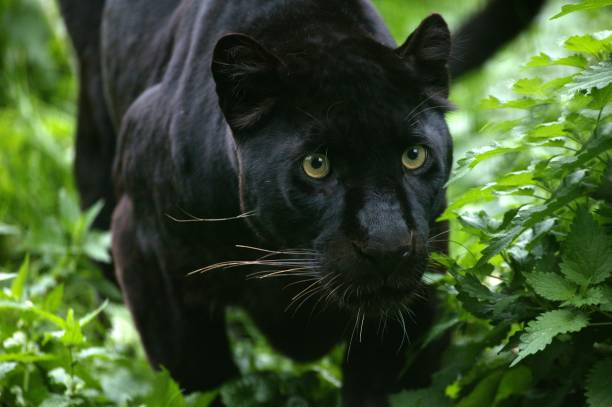panther: (196, 19, 468, 336)
